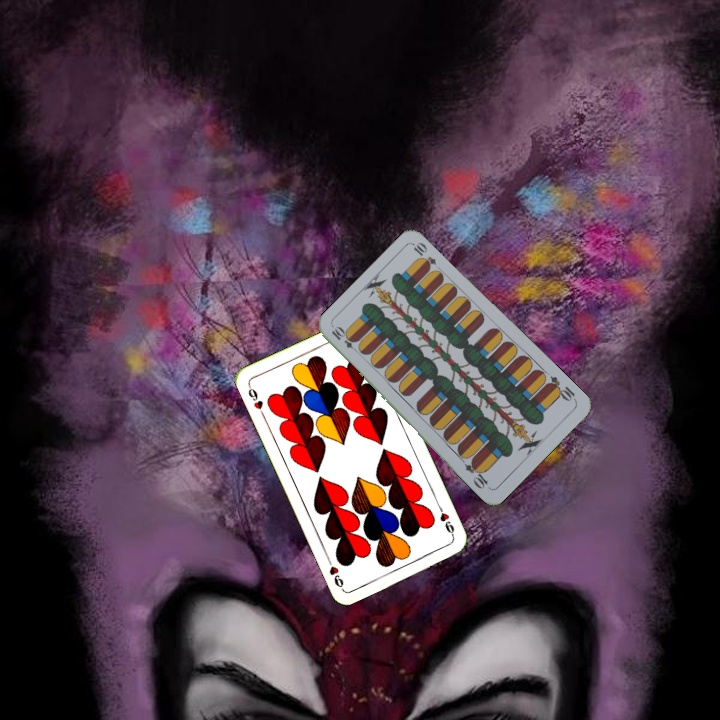E10: (327, 323, 363, 356), (542, 372, 579, 404)
H9: (434, 501, 457, 540), (244, 381, 267, 419)
